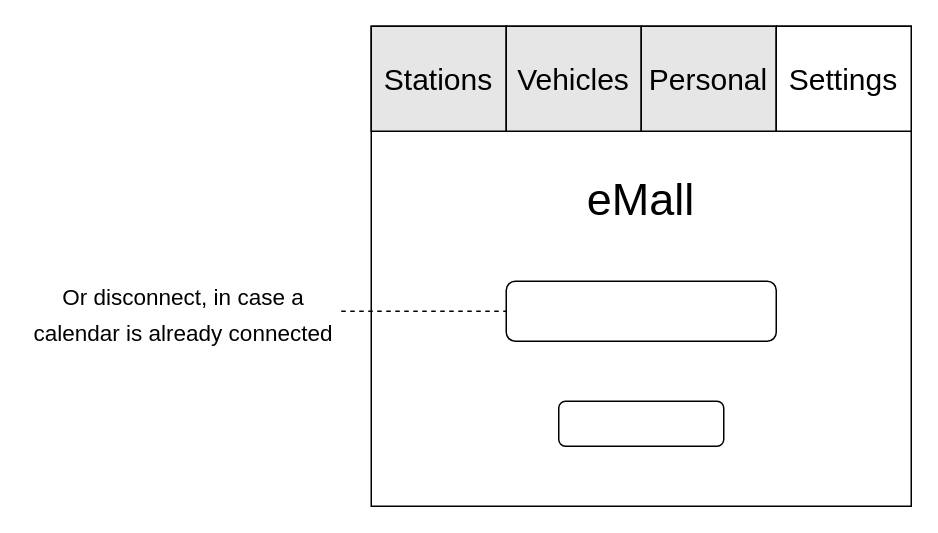
The diagram is 938 pixels wide and 533 high, and some of its shapes have lost their labels. The centre of each missing label's shape, as x and y in pixels:
Connect calendar: (x=640, y=310)
Unregister: (x=640, y=423)
